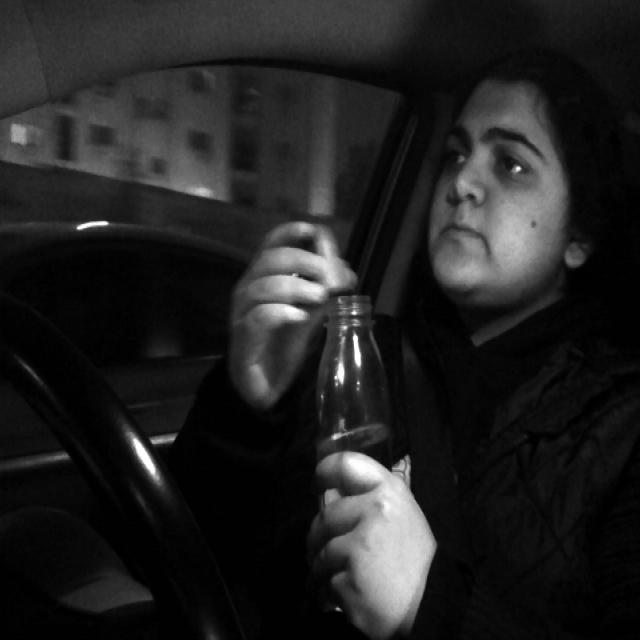drinking: (322, 287, 394, 618)
